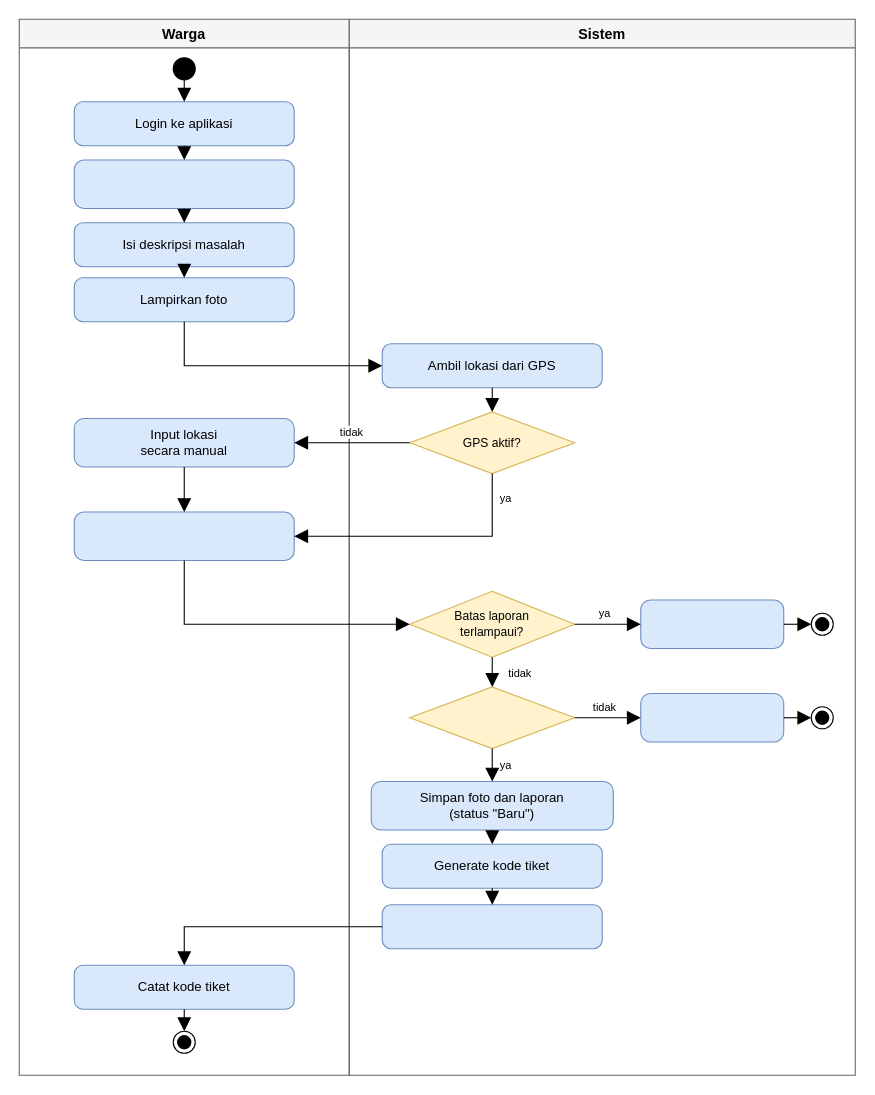
Image size: 875x1095. Some labels were removed from this diagram. Here are the shapes that lost their labels. From the top down, the box of each, then its label:
(73, 159, 294, 208): Buka halaman "Buat Laporan"
(73, 511, 294, 560): Tekan tombol "Kirim Laporan"
(640, 599, 784, 648): Tampilkan pesan batas laporan
(409, 686, 575, 749): Foto valid?
(640, 692, 784, 742): Tampilkan pesan foto tidak valid
(381, 904, 602, 949): Tampilkan kode tiket
